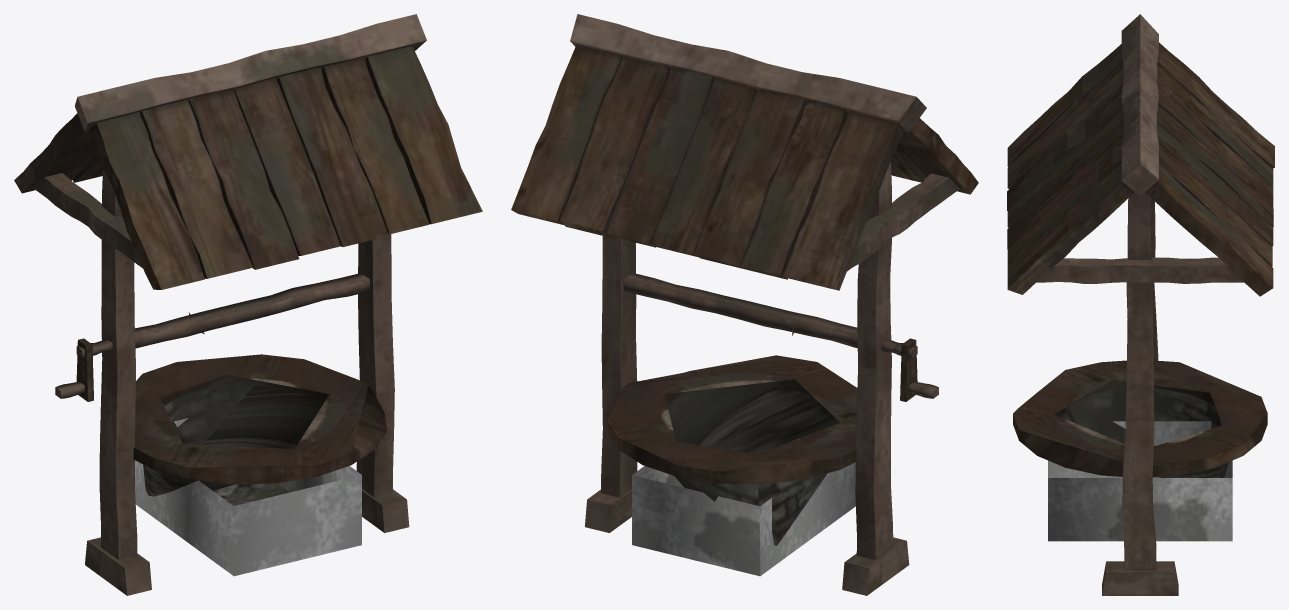
The model's file is old-well.lod0.glb.
The picture shows the model from 3 angles, left to right: view 1: azimuth 30°, elevation 25°; view 2: azimuth 150°, elevation 25°; view 3: azimuth 270°, elevation 25°; orthographic projection. The views are drawn at different scales.
Parts seen in each view (by area): view 1: defaultMaterial; view 2: defaultMaterial; view 3: defaultMaterial.
Boxes of the visible parts, x1=… form: defaultMaterial: x1=14, y1=14, x2=482, y2=595; defaultMaterial: x1=511, y1=14, x2=978, y2=595; defaultMaterial: x1=1007, y1=14, x2=1274, y2=595.
Bounding box in the file's own units: 2.6 × 3.4 × 1.86.
1 material, 1 textured.
